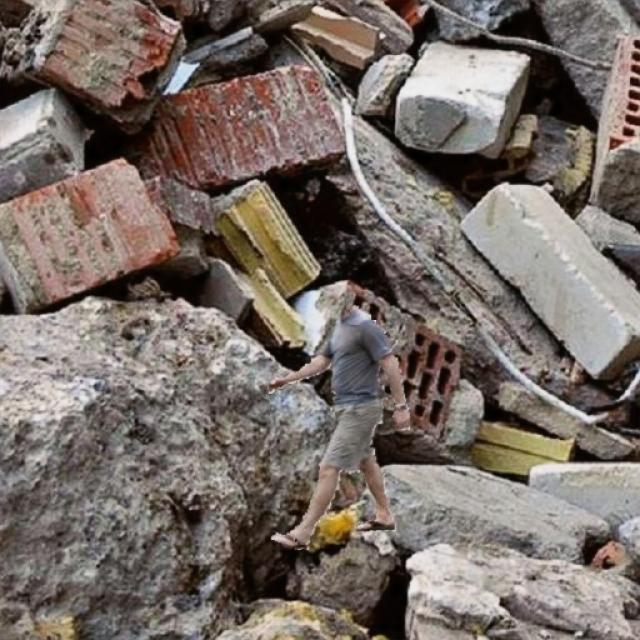Person in Rubble: (267, 305, 408, 549)
